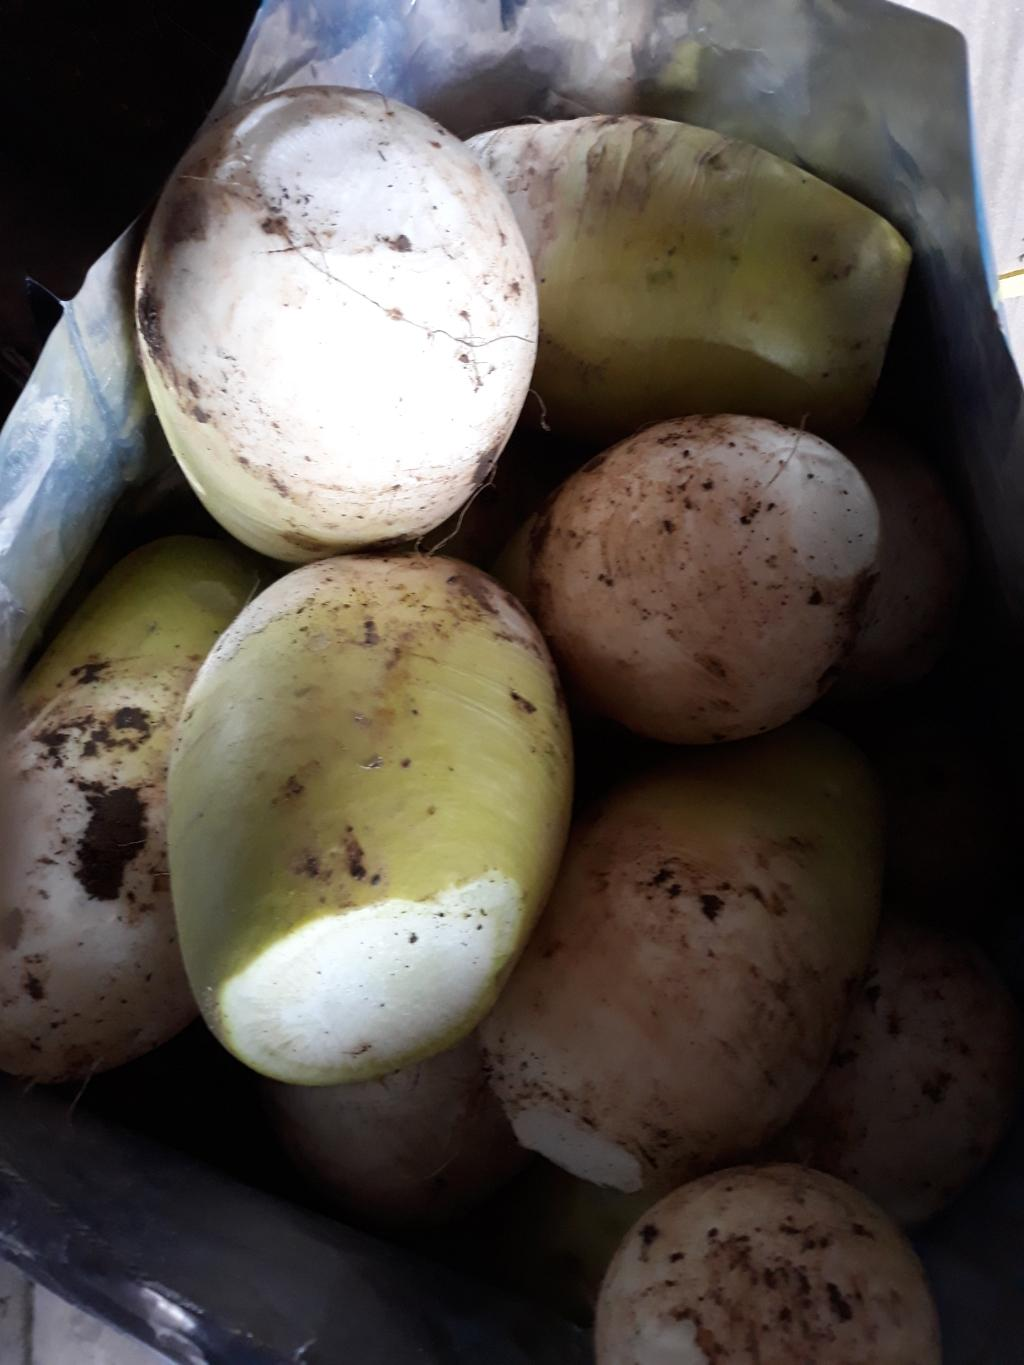radish: (253, 262, 847, 1128), (365, 807, 926, 1365), (734, 288, 1024, 885)
